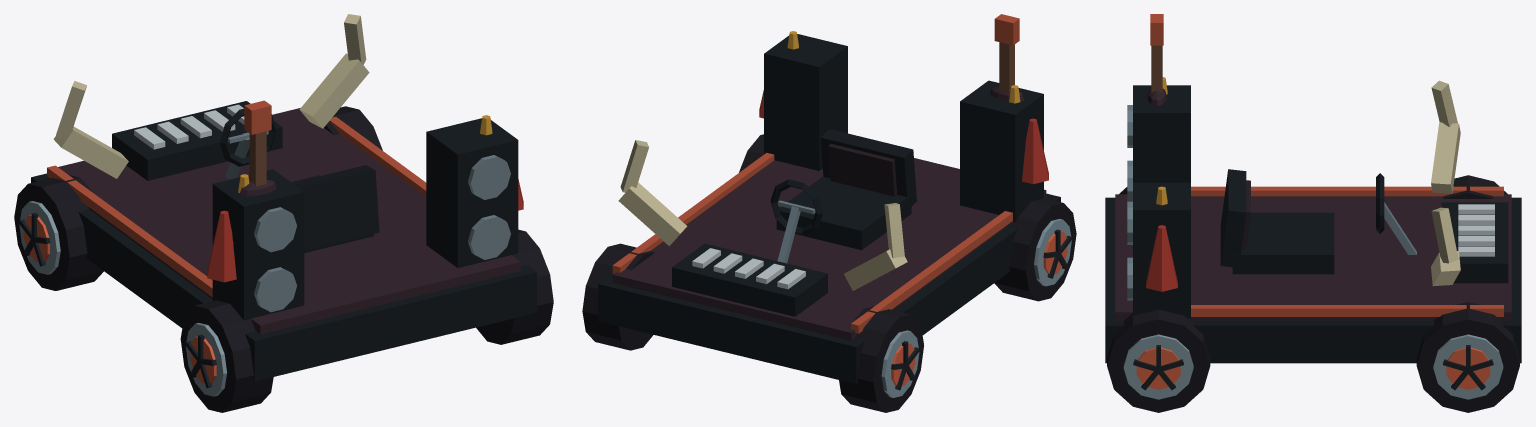
File: kart.glb
3 views of the same model, side by side, from view 1: azimuth 30°, elevation 25°; view 2: azimuth 150°, elevation 25°; view 3: azimuth 270°, elevation 25° (orthographic). The views are drawn at different scales.
Visible parts, largest first — view 1: identity-stage-stage-platform-and-pa-towers, wheel-front-left, wheel-rear-left, identity-stage-driver-cockpit, identity-stage-motif-horns, wheel-rear-right, identity-stage-motif-guitar, identity-stage-motif-fire, wheel-front-right; view 2: identity-stage-stage-platform-and-pa-towers, identity-stage-driver-cockpit, wheel-front-left, wheel-rear-left, identity-stage-motif-horns, wheel-front-right, identity-stage-motif-fire, identity-stage-motif-guitar; view 3: identity-stage-stage-platform-and-pa-towers, identity-stage-driver-cockpit, wheel-front-right, wheel-rear-right, identity-stage-motif-horns, identity-stage-motif-fire, identity-stage-motif-guitar, wheel-front-left.
Boxes of the visible parts, x1,y1,x2,y2 form: identity-stage-stage-platform-and-pa-towers: (31, 101, 536, 381); wheel-front-left: (14, 174, 103, 290); wheel-rear-left: (180, 300, 273, 412); identity-stage-driver-cockpit: (219, 108, 379, 252); identity-stage-motif-horns: (53, 14, 369, 178); wheel-rear-right: (476, 229, 553, 344); identity-stage-motif-guitar: (232, 100, 276, 245); identity-stage-motif-fire: (207, 115, 523, 282); wheel-front-right: (324, 106, 382, 150); identity-stage-stage-platform-and-pa-towers: (598, 34, 1060, 383); identity-stage-driver-cockpit: (770, 129, 916, 263); wheel-front-left: (839, 306, 923, 412); wheel-rear-left: (994, 198, 1076, 301); identity-stage-motif-horns: (618, 140, 907, 290); wheel-front-right: (582, 243, 654, 350); identity-stage-motif-fire: (759, 31, 1048, 184); identity-stage-motif-guitar: (990, 14, 1023, 101); identity-stage-stage-platform-and-pa-towers: (1105, 85, 1521, 363); identity-stage-driver-cockpit: (1220, 169, 1416, 274); wheel-front-right: (1416, 302, 1519, 412); wheel-rear-right: (1107, 309, 1210, 412); identity-stage-motif-horns: (1431, 80, 1460, 286); identity-stage-motif-fire: (1146, 77, 1177, 291); identity-stage-motif-guitar: (1147, 14, 1166, 105); wheel-front-left: (1443, 175, 1507, 198).
Size of the model in its own units: 2.16 by 1.8 by 2.5.
